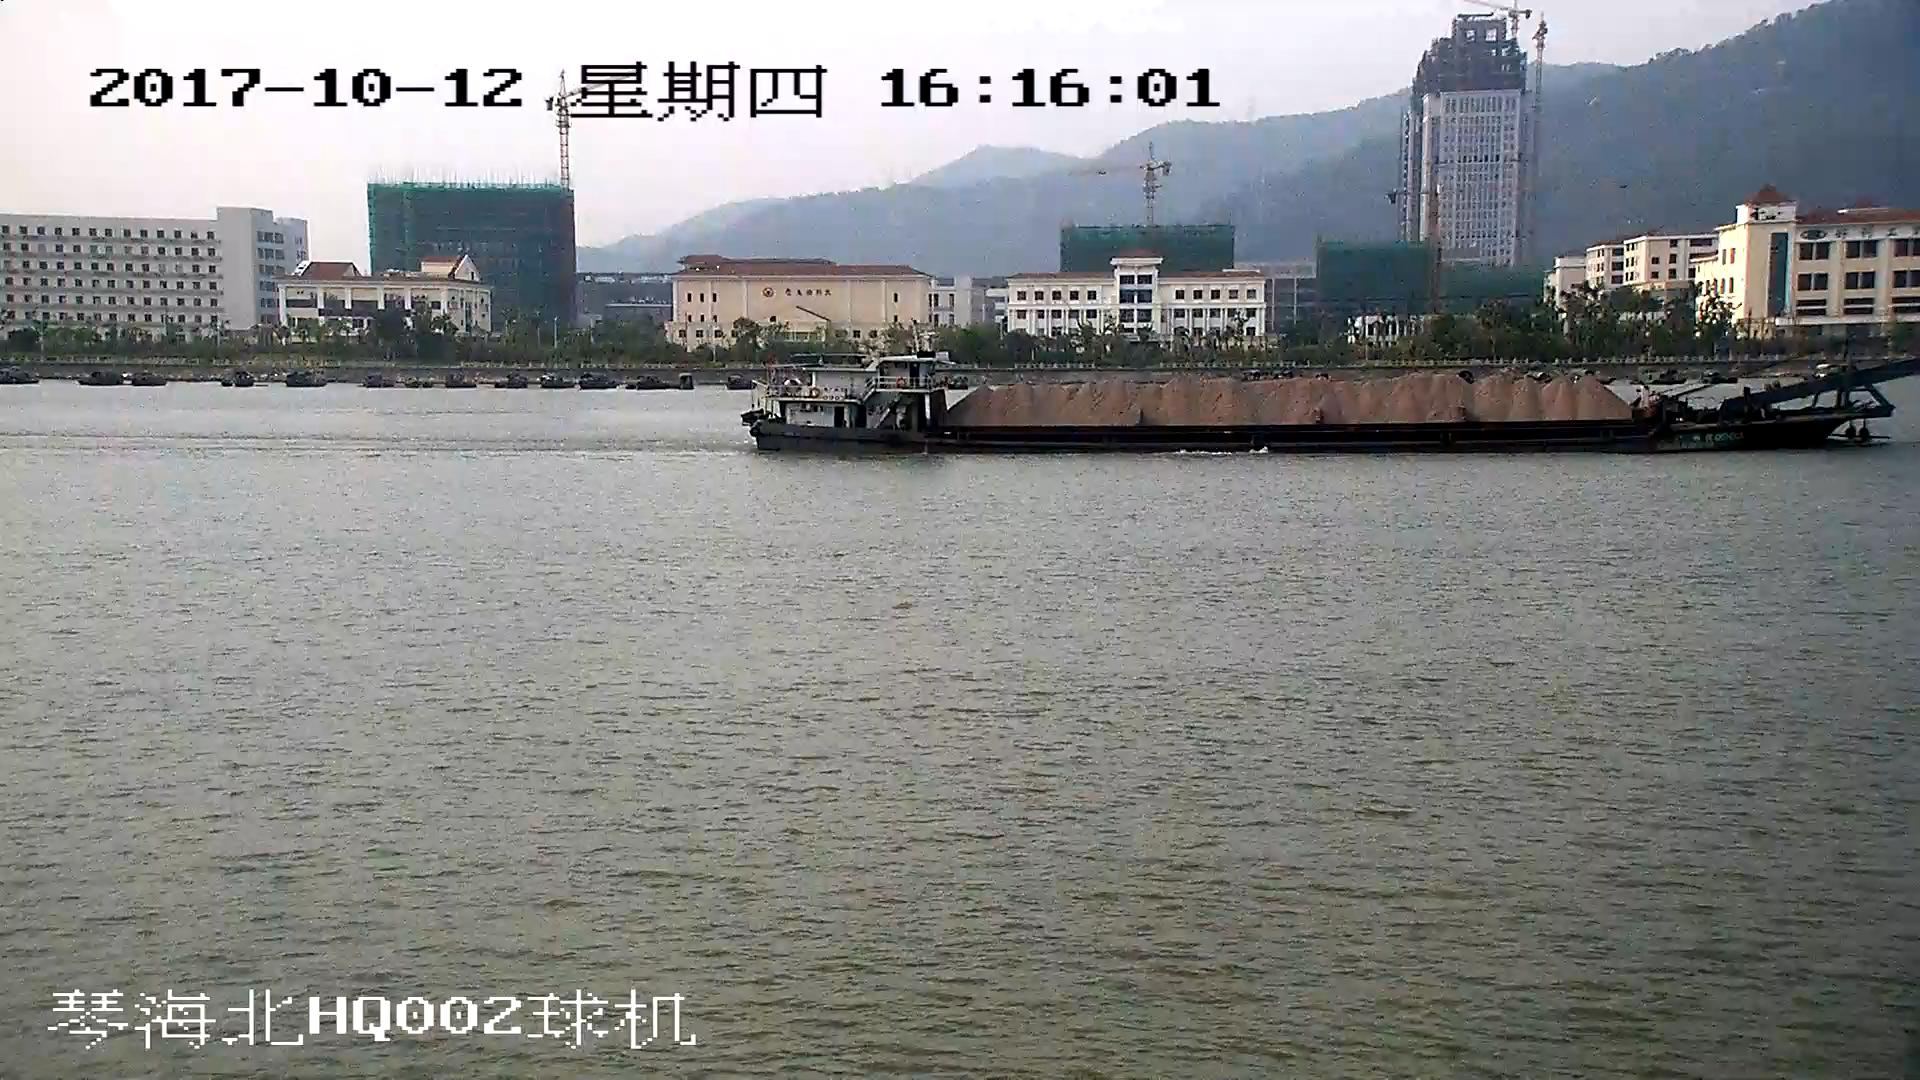ore carrier: (736, 332, 1920, 455)
